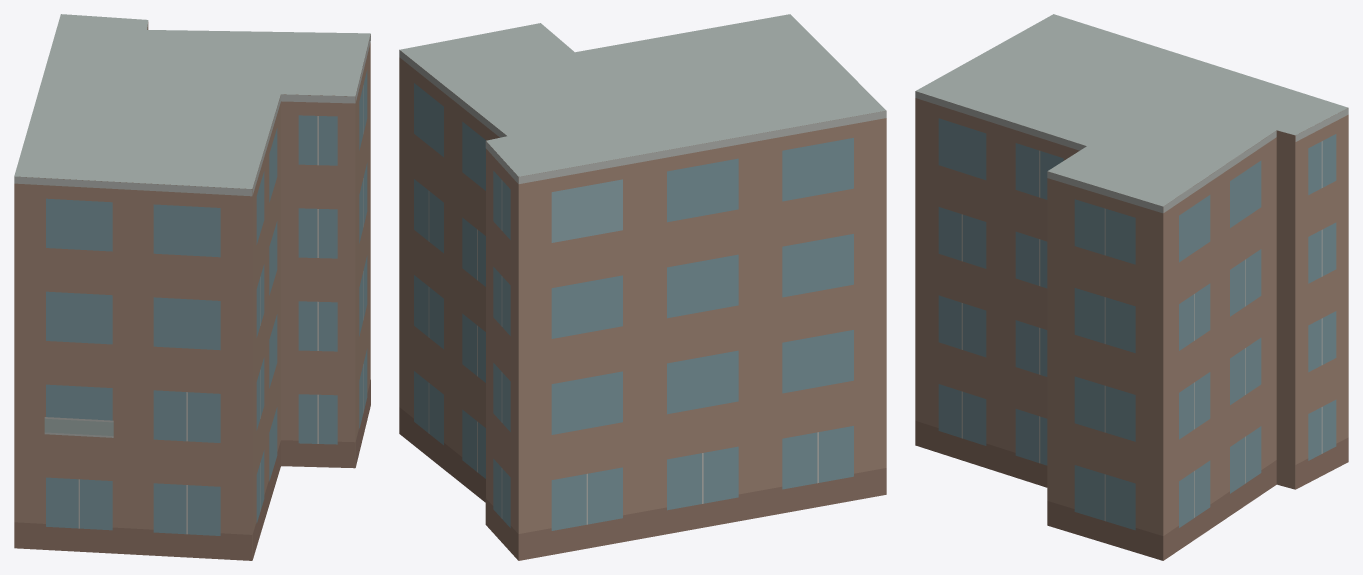
The model's file is survey-upis-32759363.glb.
3 views of the same model, side by side, from view 1: azimuth 30°, elevation 25°; view 2: azimuth 150°, elevation 25°; view 3: azimuth 270°, elevation 25° (orthographic). The views are drawn at different scales.
Visible parts, largest first — view 1: survey-upis-32759363.tmp; view 2: survey-upis-32759363.tmp; view 3: survey-upis-32759363.tmp.
Boxes of the visible parts, x1,y1,x2,y2 form: survey-upis-32759363.tmp: (14, 14, 370, 560); survey-upis-32759363.tmp: (399, 14, 886, 560); survey-upis-32759363.tmp: (915, 14, 1348, 560).
Size of the model in its own units: 14.75 by 12.65 by 14.03.
